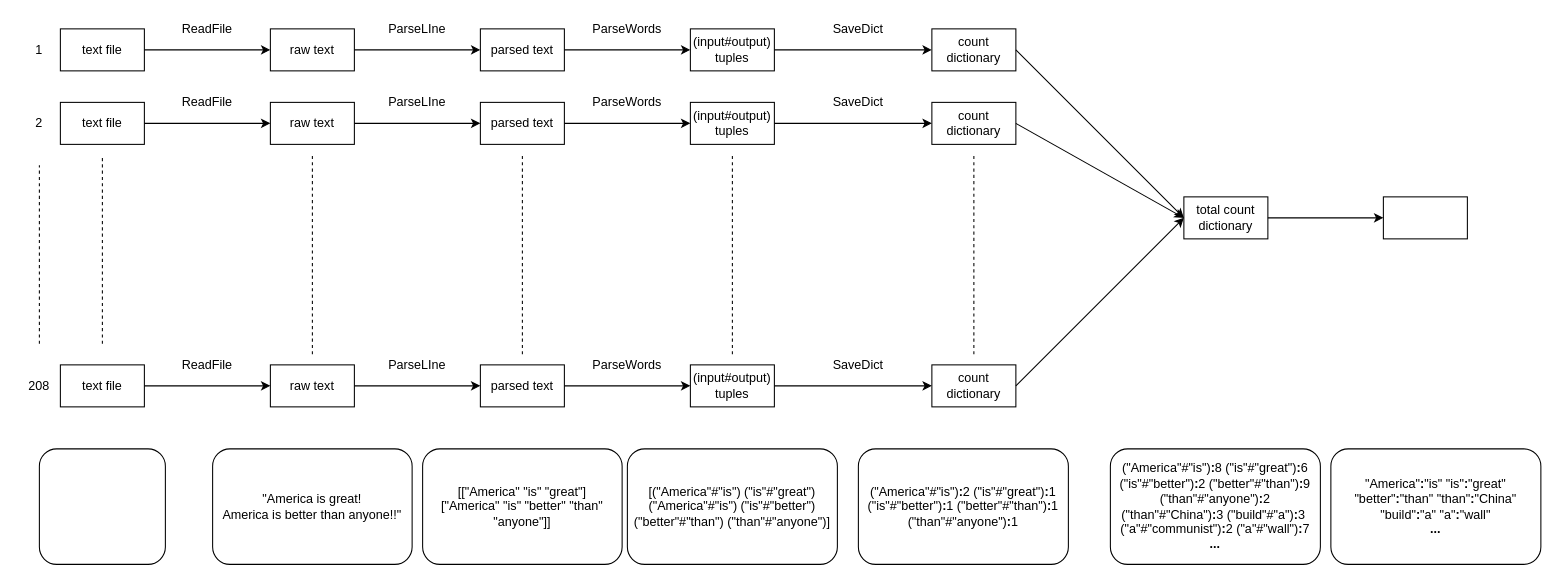
Some shapes in this 1559 by 583 pixel diagram are drawn without their labels. The centre of each missing label's shape, as x and y in pixels:
example_text.txt: point (101, 506)
filtered count dictionary: point (1424, 217)
